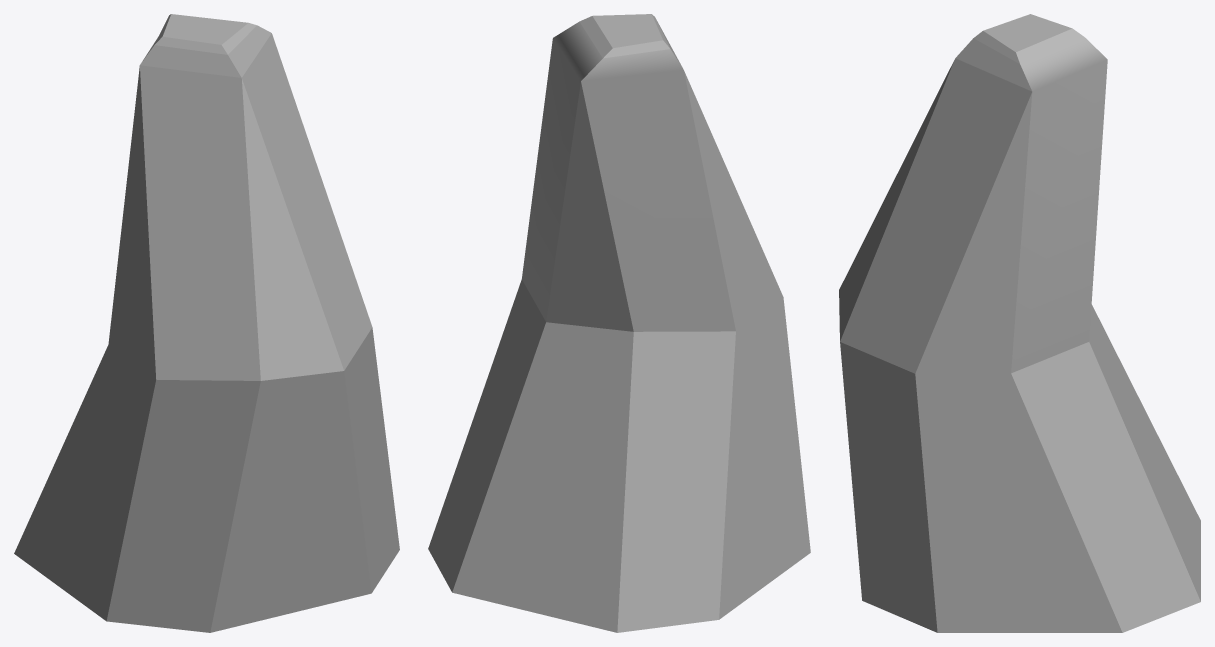
File: Ground Stone 9.fbx
The picture shows the model from 3 angles, left to right: view 1: azimuth 30°, elevation 25°; view 2: azimuth 150°, elevation 25°; view 3: azimuth 270°, elevation 25°; orthographic projection.
Parts seen in each view (by area): view 1: Ground_Stone_9; view 2: Ground_Stone_9; view 3: Ground_Stone_9.
Boxes of the visible parts, box(x1,y1,x2,y2) form: Ground_Stone_9: box(14, 14, 399, 632); Ground_Stone_9: box(428, 14, 810, 632); Ground_Stone_9: box(839, 14, 1200, 632).
Bounding box in the file's own units: 1.75 × 3 × 1.87.
